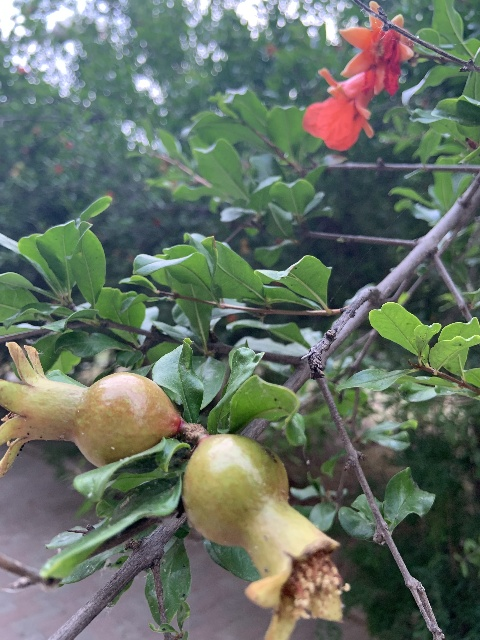early-fruit: (182, 434, 345, 640), (0, 342, 179, 477)
flower: (338, 4, 414, 98), (302, 68, 377, 152)
